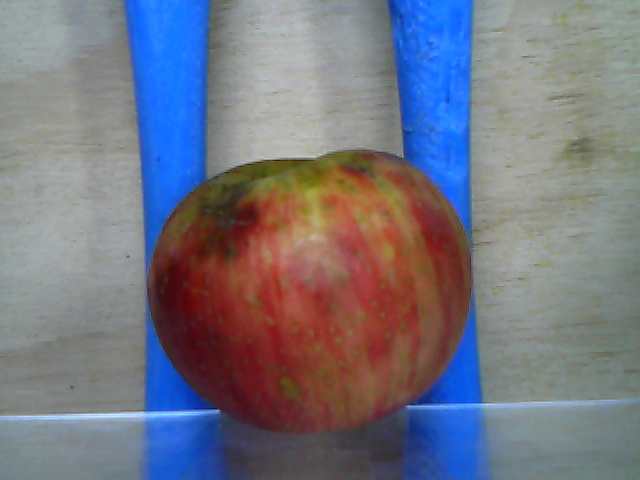bruise: (199, 180, 260, 262)
